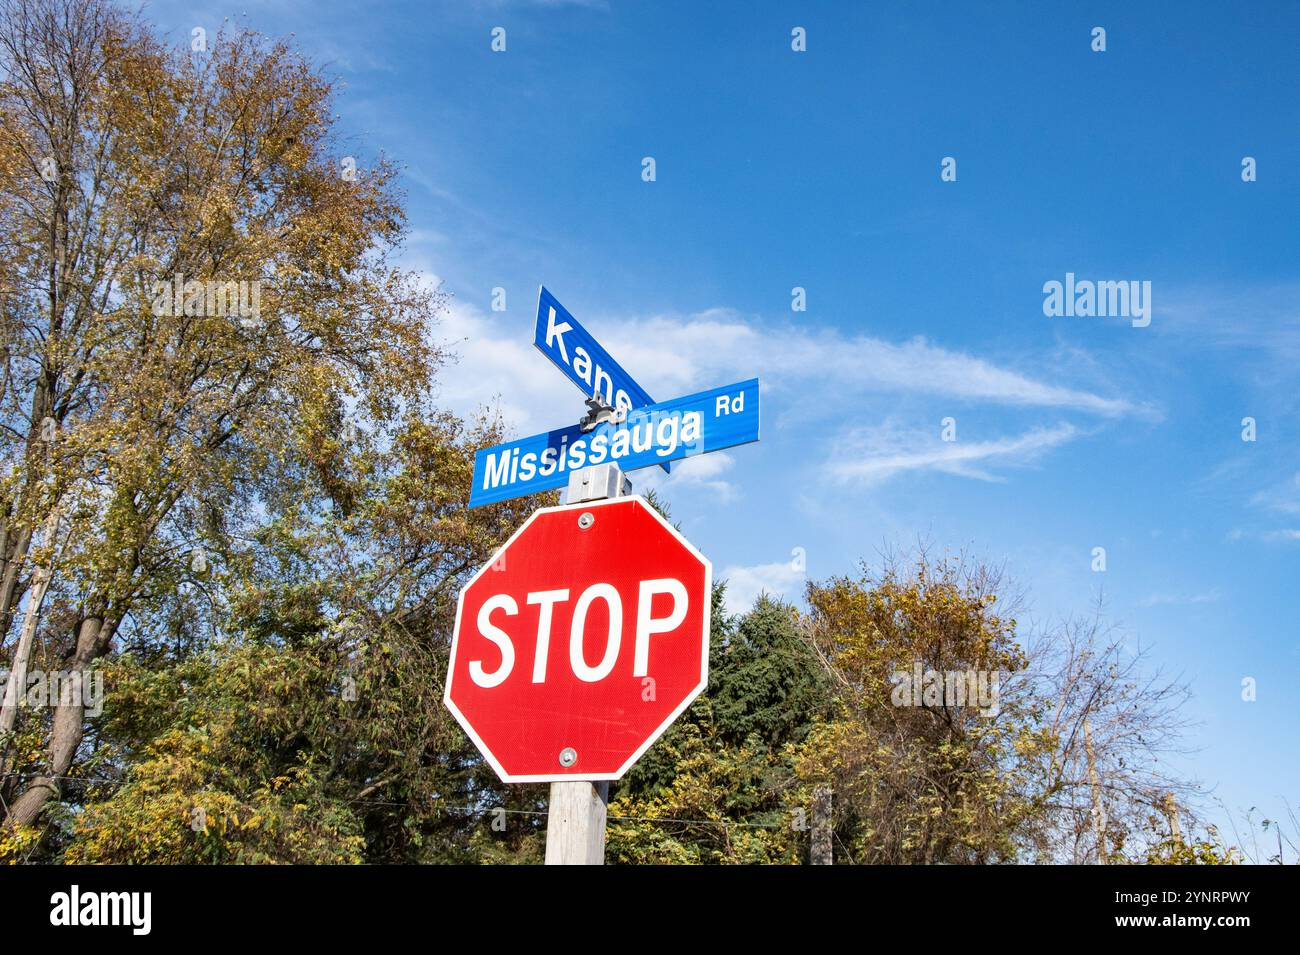sign_stop: (442, 491, 714, 785)
